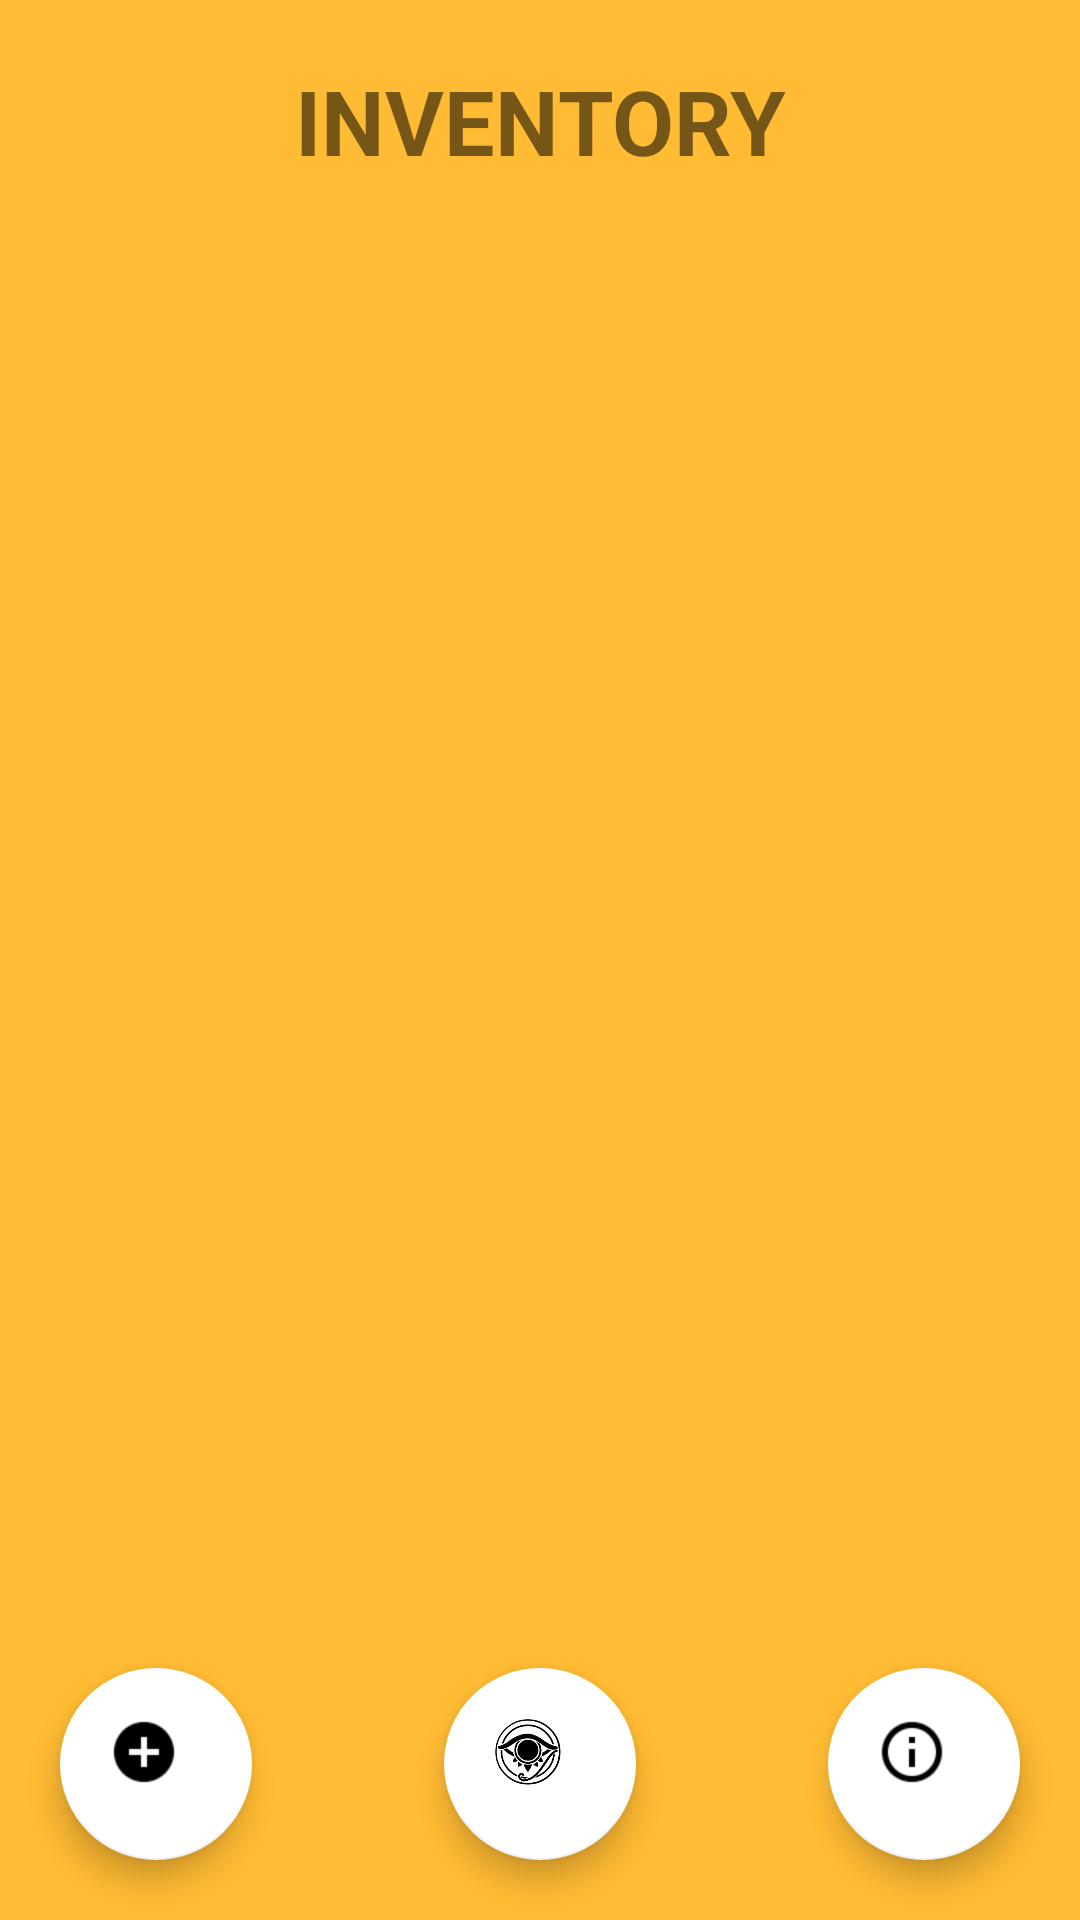

Where icons sit on this 1080px×1920px app screen, as (x1, y1, x2, y2):
eye: (444, 1668, 636, 1860)
information: (828, 1668, 1020, 1860)
plus circle: (60, 1668, 252, 1860)
